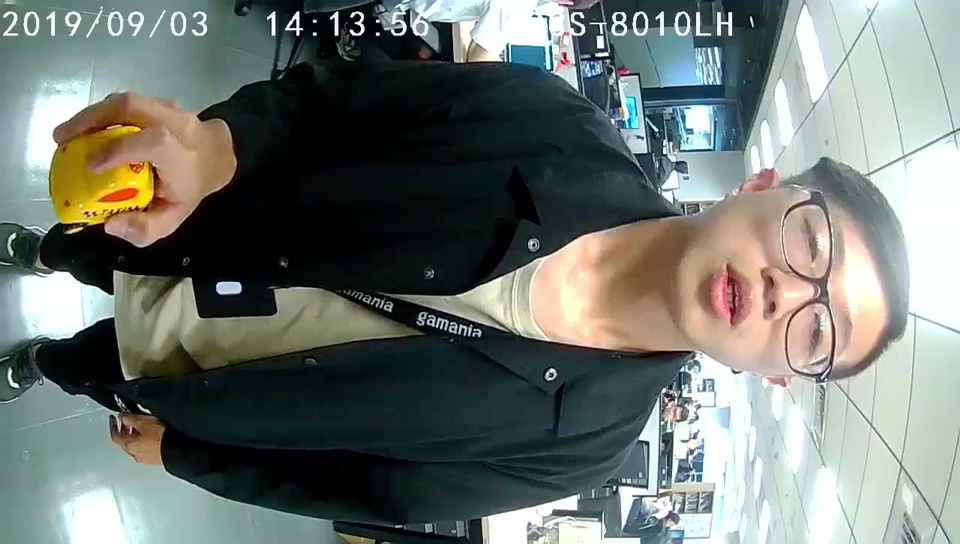car: (47, 126, 152, 225)
